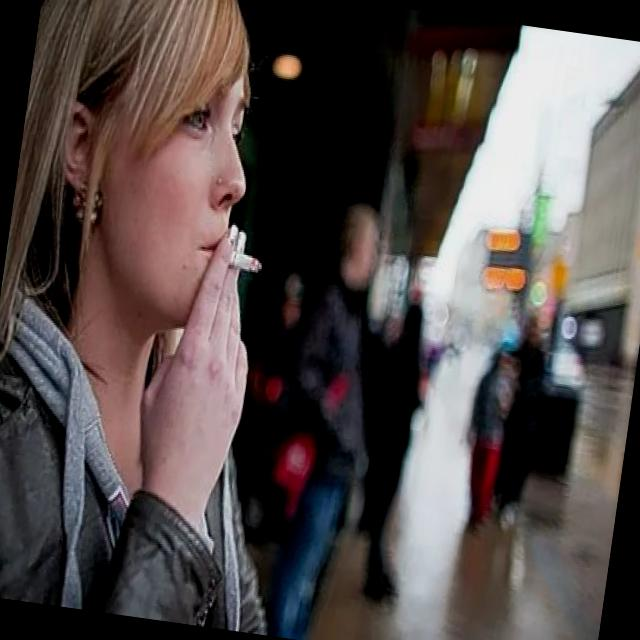cigarette: (215, 244, 268, 282)
